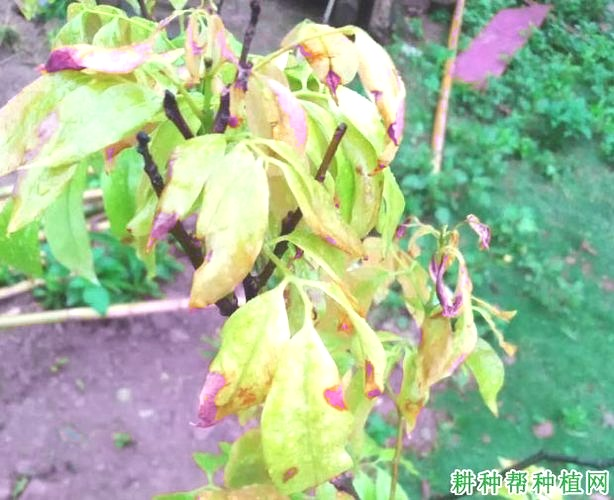Anthracnose: (295, 290, 432, 456), (275, 12, 391, 160), (51, 20, 228, 115), (412, 207, 510, 340), (133, 190, 226, 294), (208, 351, 271, 428), (298, 187, 358, 260)
